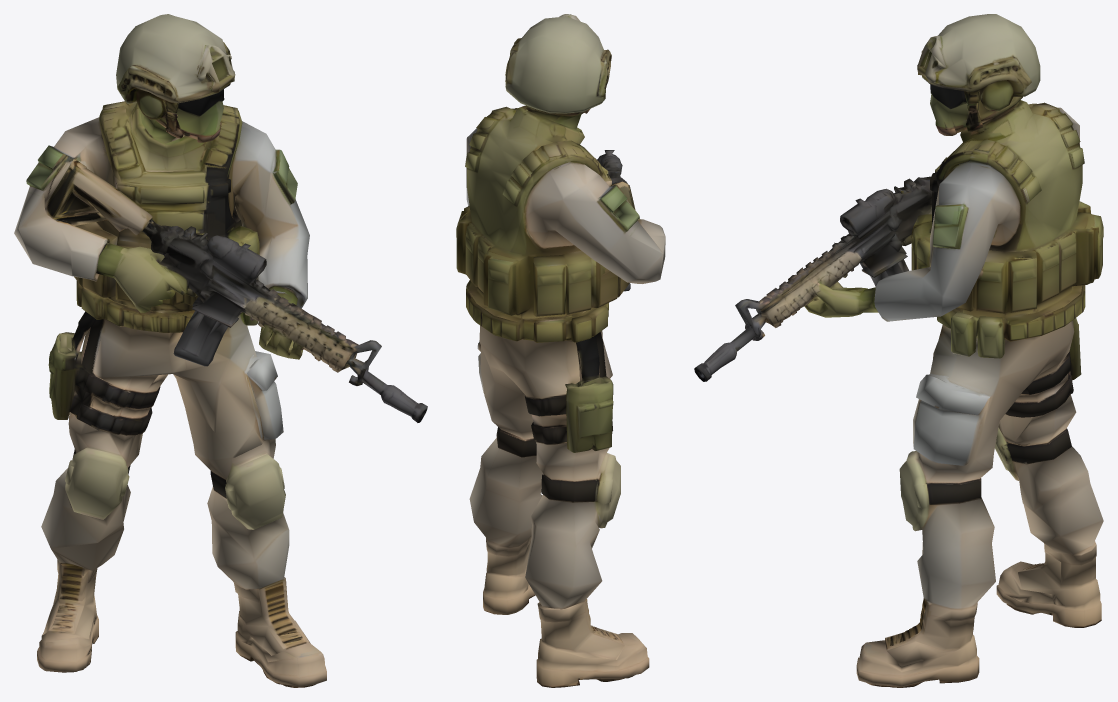
Rendered from soldier.glb.
The picture shows the model from 3 angles, left to right: view 1: azimuth 30°, elevation 25°; view 2: azimuth 150°, elevation 25°; view 3: azimuth 270°, elevation 25°; orthographic projection. The views are drawn at different scales.
Visible parts, largest first — view 1: material; view 2: material; view 3: material.
Part boxes in pixels (x1,y1,x2,y2): material: [14, 14, 427, 687]; material: [456, 14, 665, 687]; material: [694, 14, 1103, 687].
Size of the model in its own units: 0.7752 by 1.9 by 1.14.
Materials: 1 (1 with a texture image).
